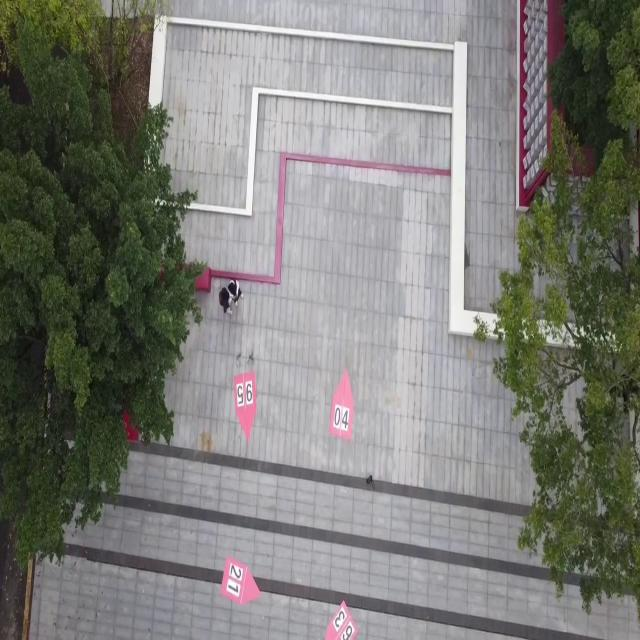-sign-: (229, 351, 269, 456), (218, 552, 262, 610), (328, 367, 360, 446)
